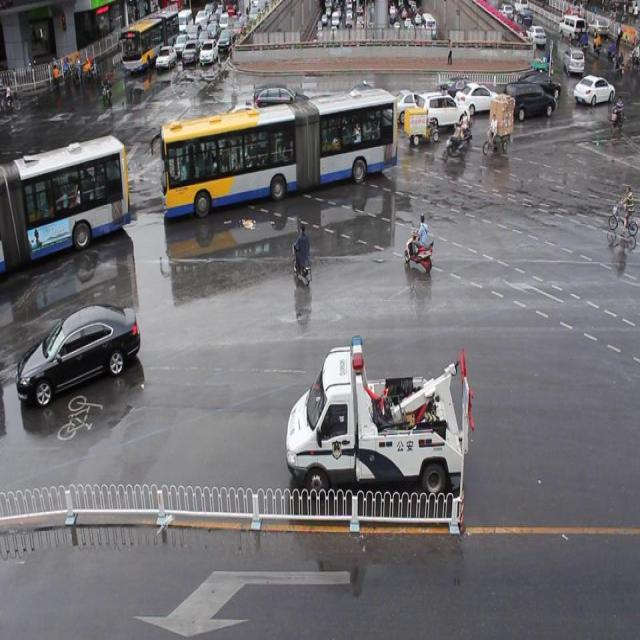bus: (285, 338, 464, 498)
car: (17, 301, 141, 404), (501, 81, 555, 122), (416, 90, 469, 130), (453, 82, 502, 117), (514, 71, 560, 102), (439, 76, 481, 105)
van: (162, 87, 396, 218)
